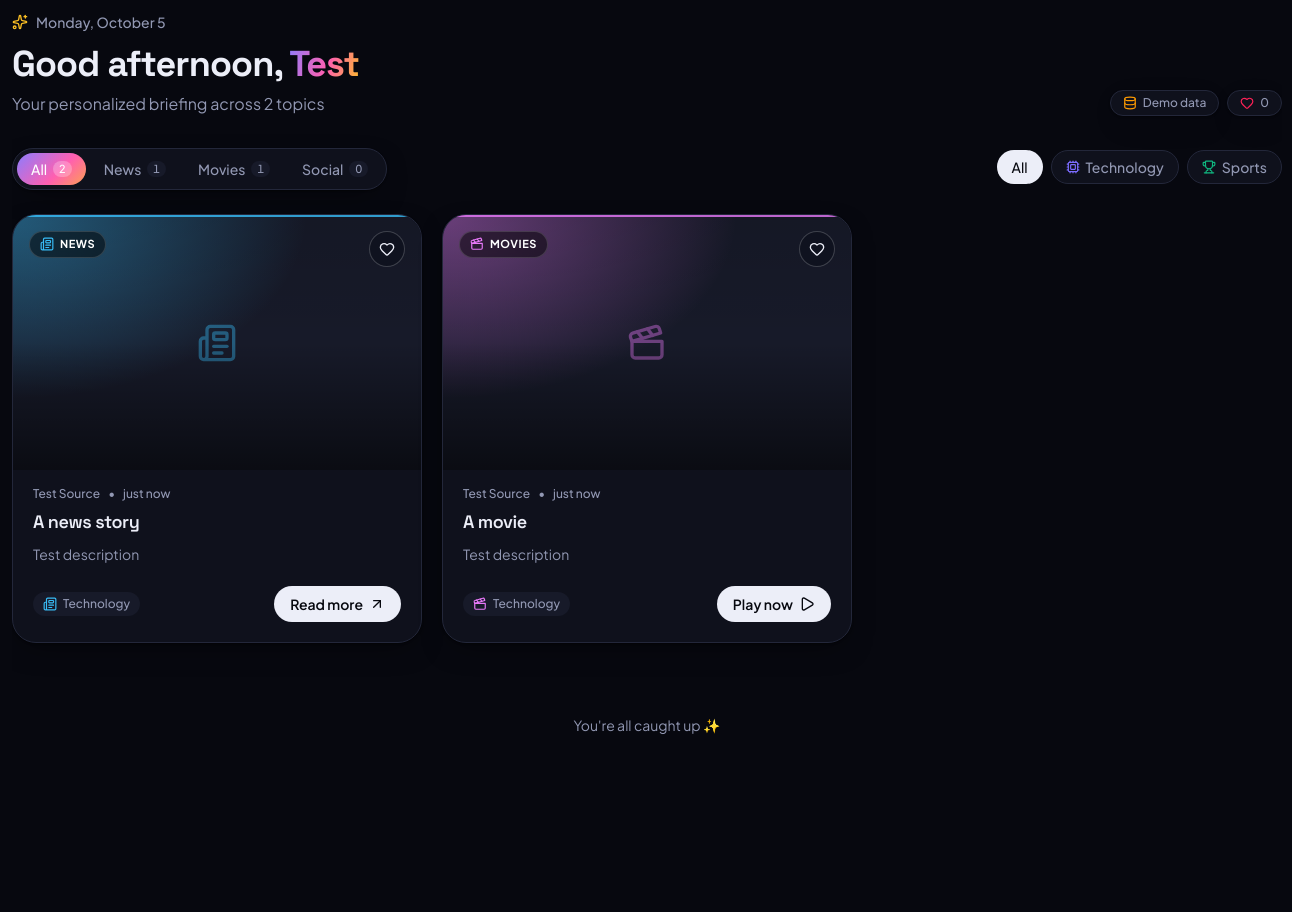
Test: FeedView (integration) › filters by content type via the tabs
This screenshot has width=1292, height=912.
Step 1. Click the button "Movies 1" → (234,169), box [184,153,284,185]
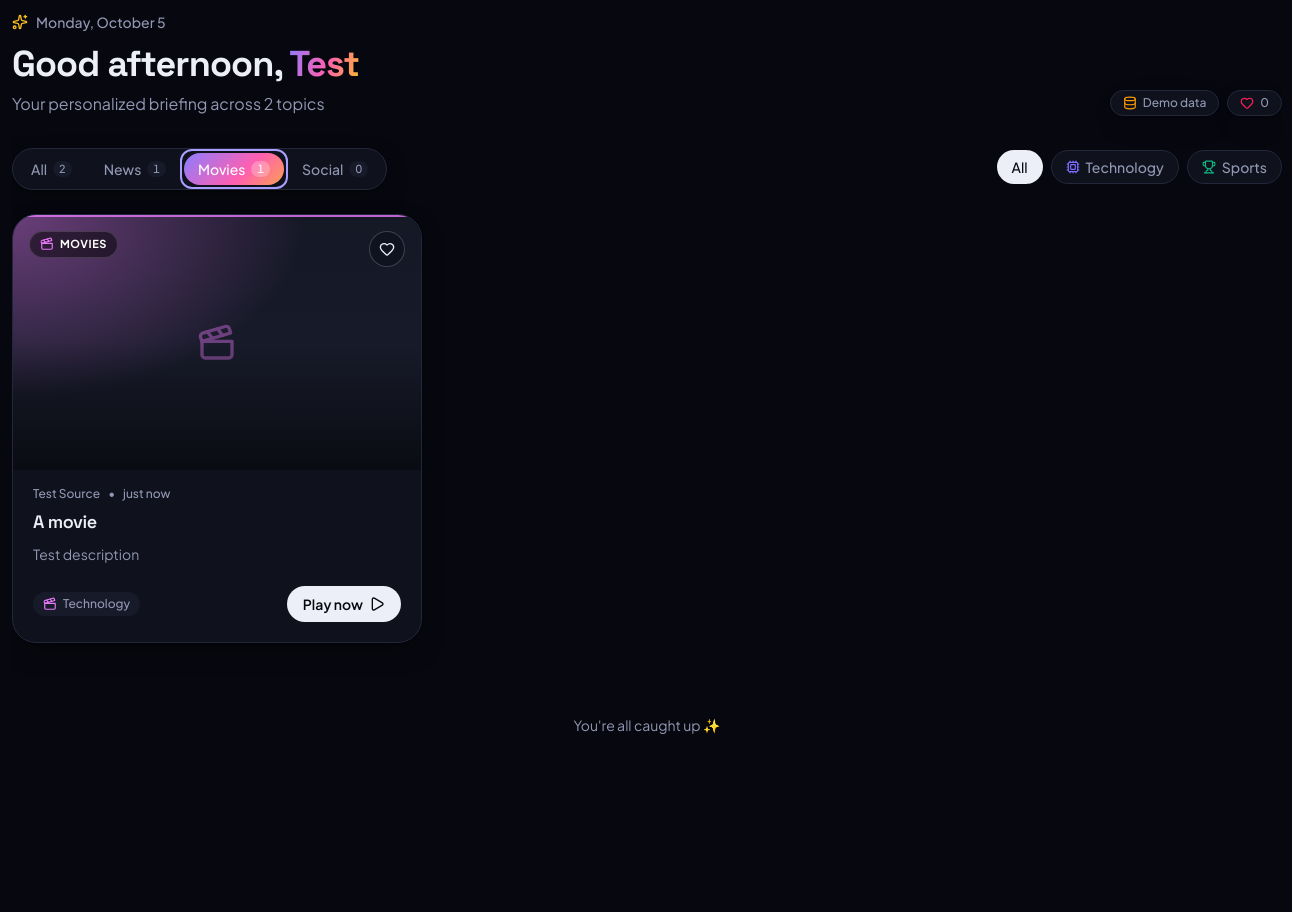
Expected: the heading "A movie" is shown, [33,510,97,533]
Expected: the number of elements with test id "content-card" is 1, [12,214,422,642]
